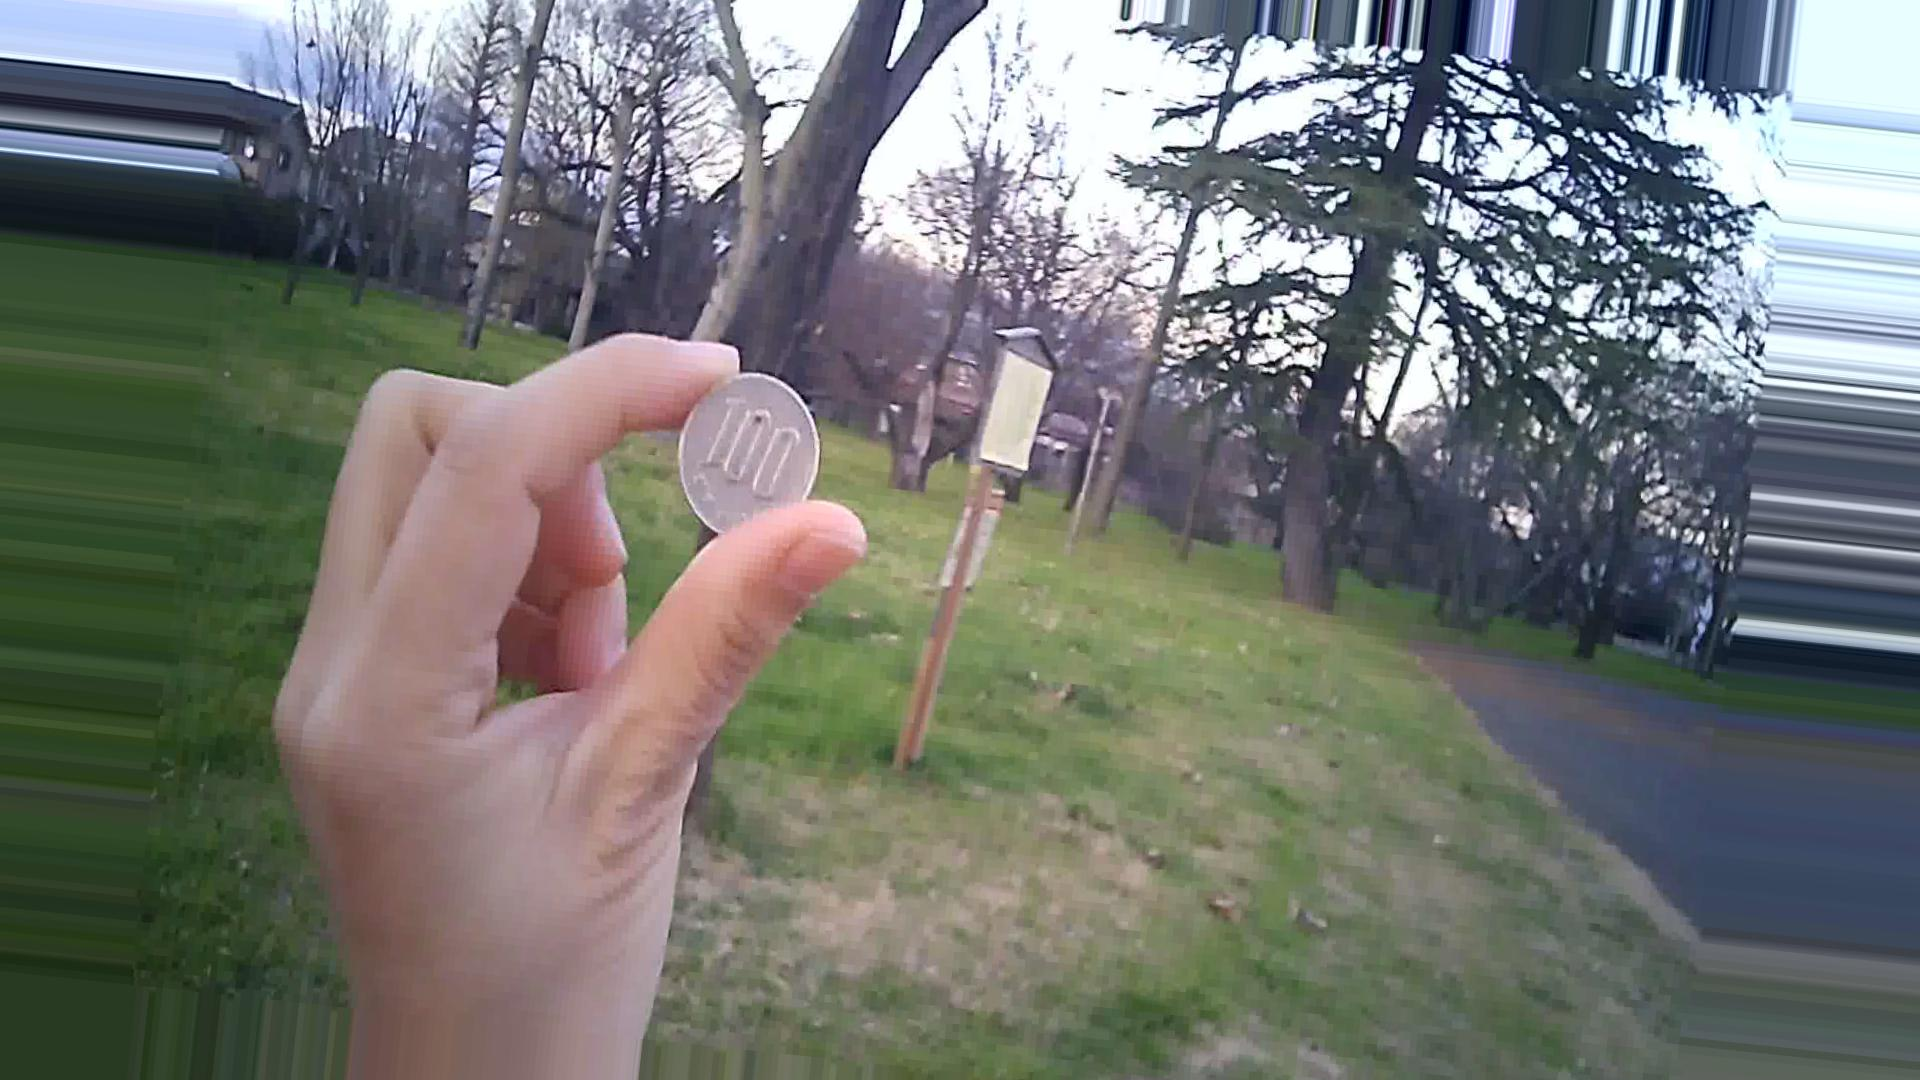100 Yen: (678, 369, 825, 556)
